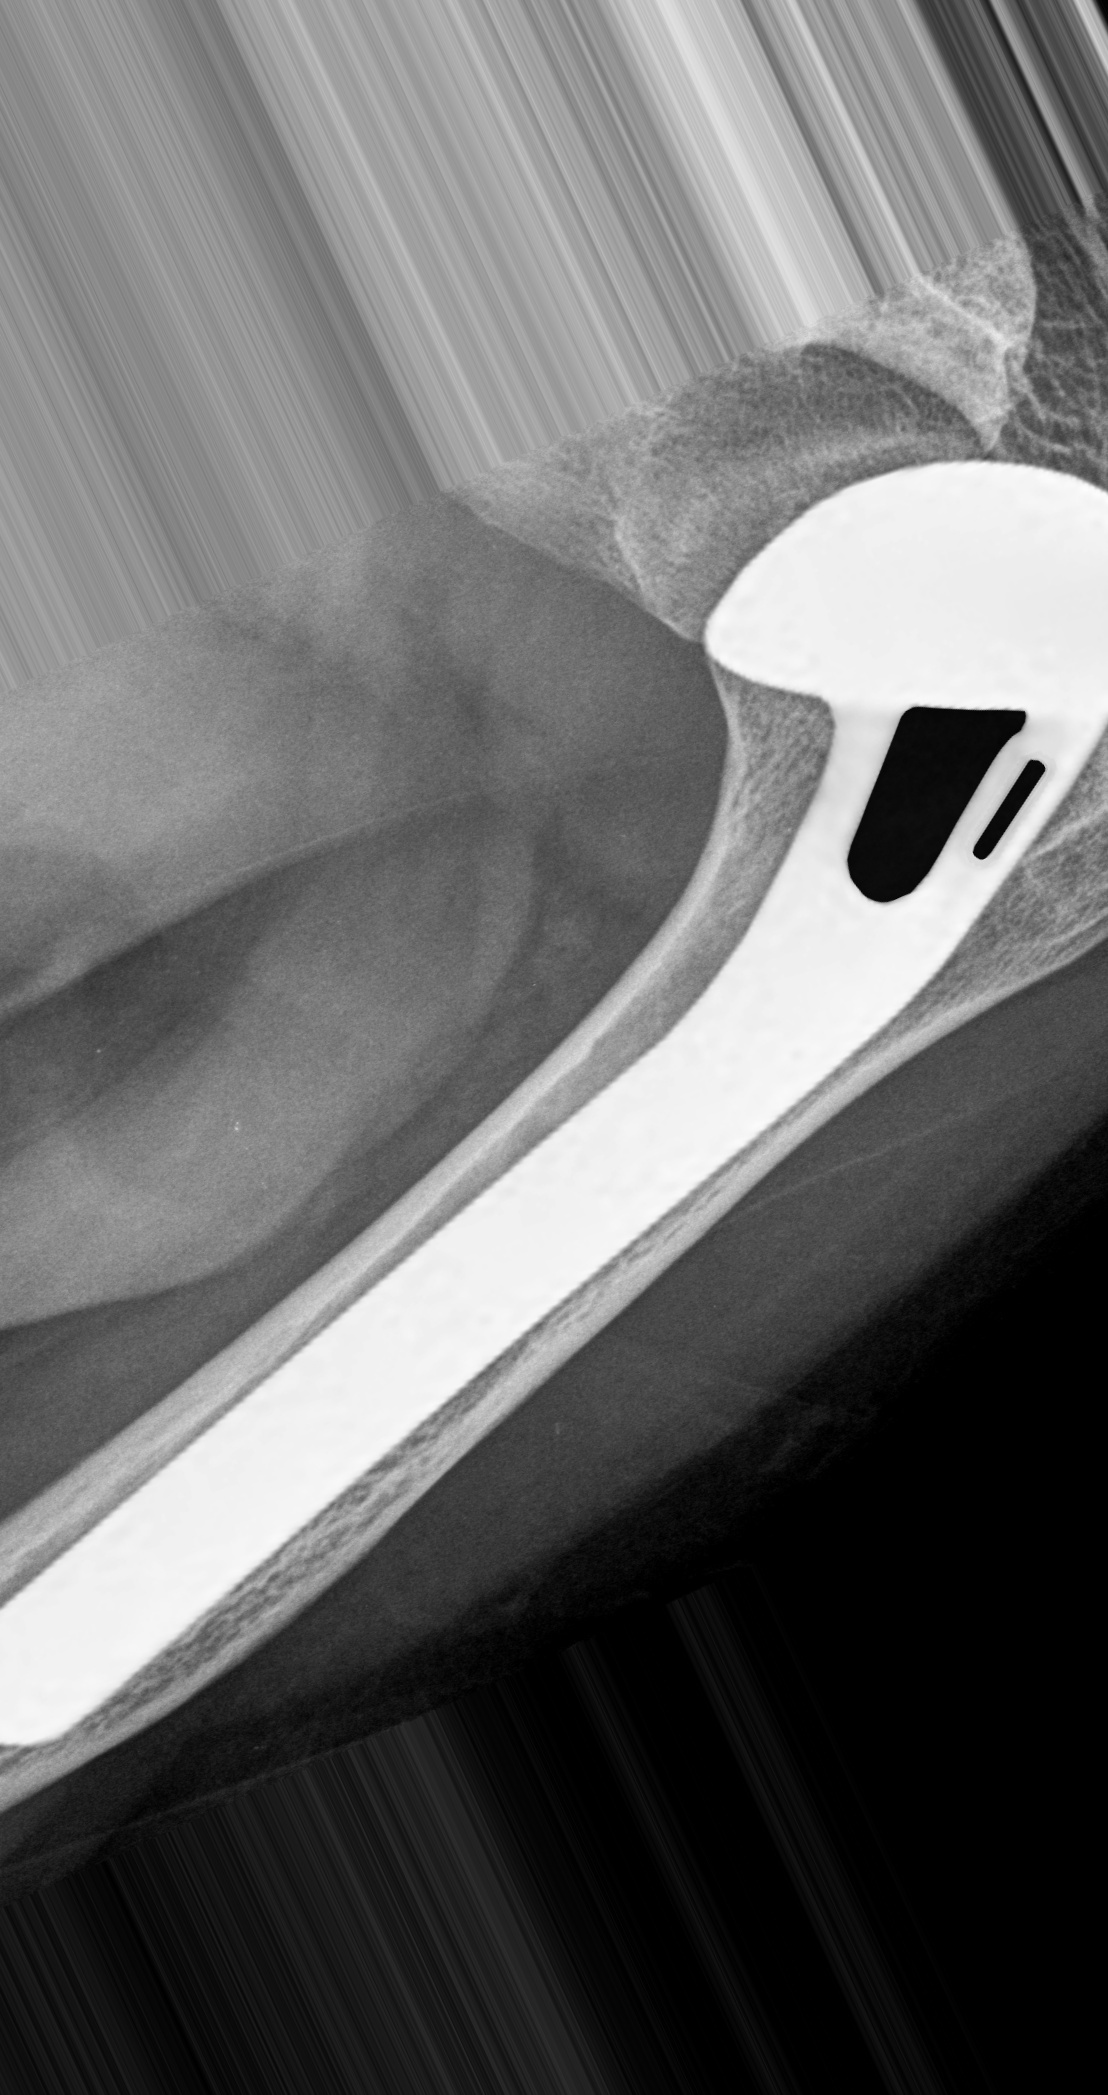Shoulder - AequalisFracture - Tornier: (697, 443, 1108, 952)
